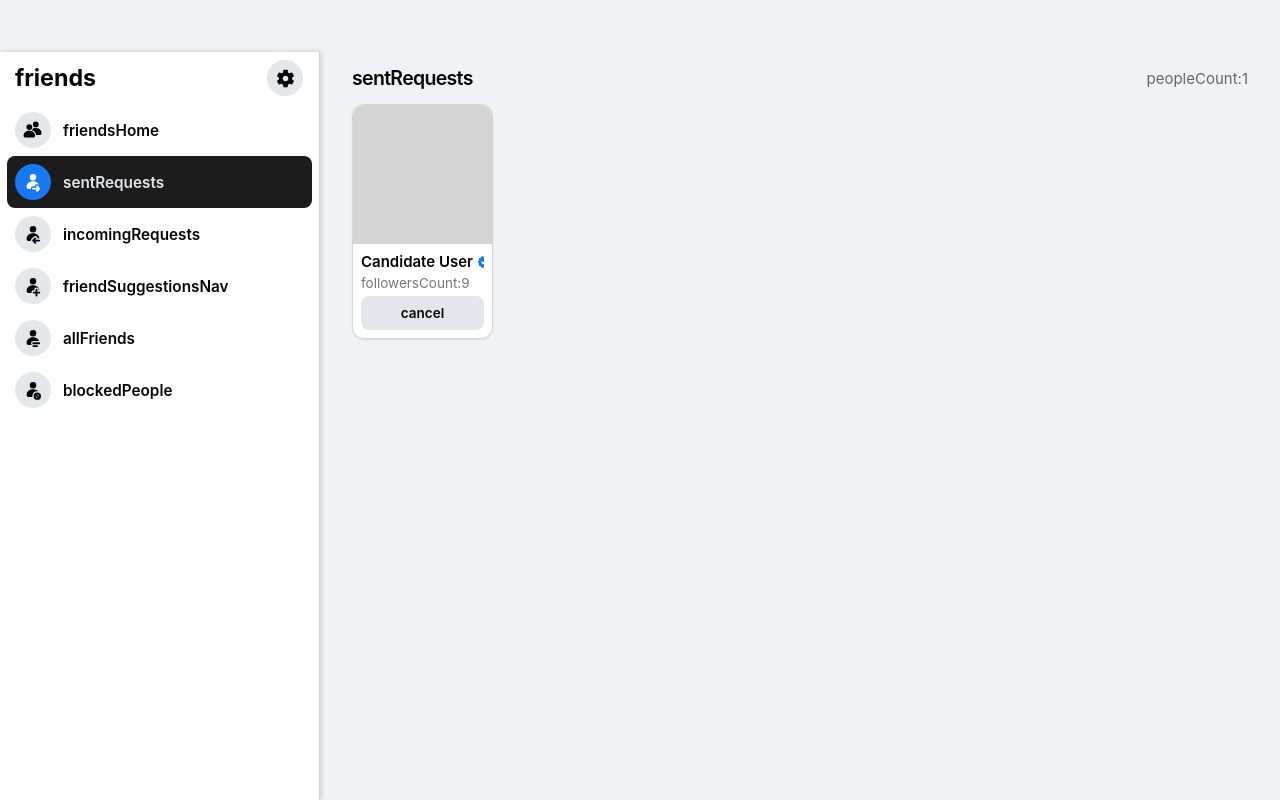
it: FriendsPage redesign › loads and performs the outgoing section action
This screenshot has width=1280, height=800.
Click the button "cancel": (422,313) [361,296,484,330]
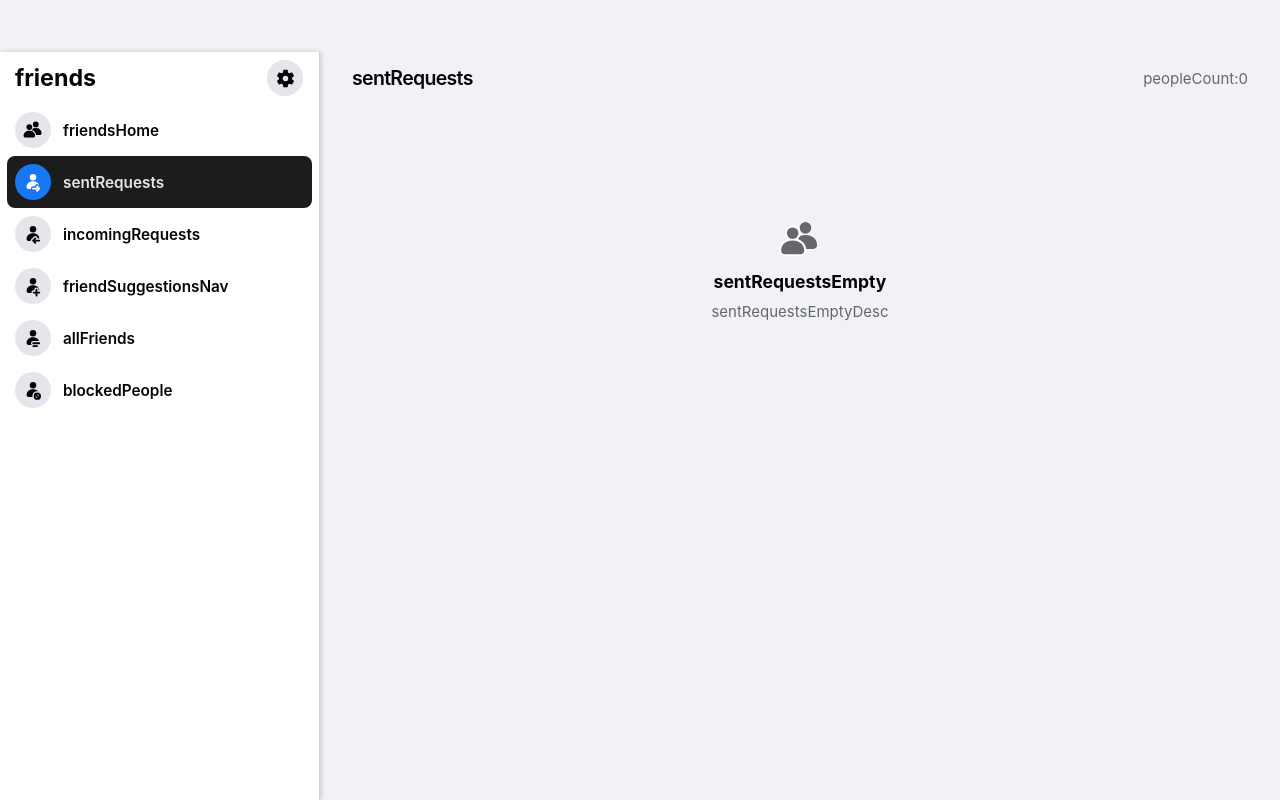
Now the element with class "friend-discovery-card" is gone
